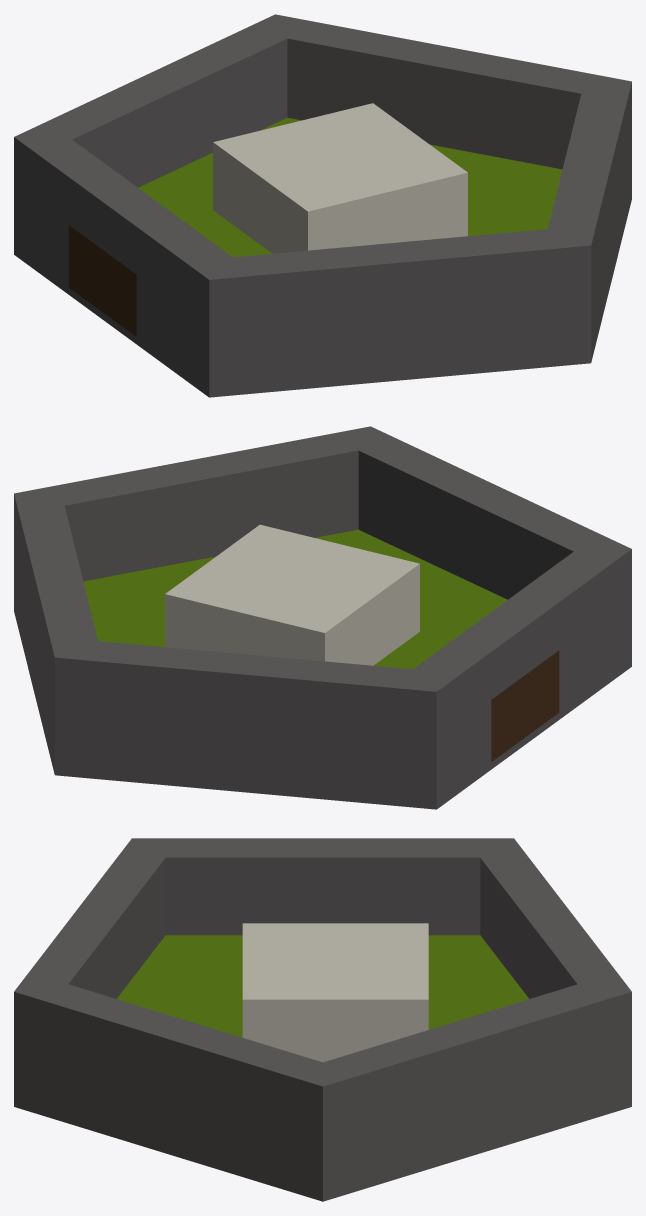
The model's file is StarFort.FBX.
The picture shows the model from 3 angles, top to bottom: view 1: azimuth 30°, elevation 25°; view 2: azimuth 150°, elevation 25°; view 3: azimuth 270°, elevation 25°; orthographic projection. The views are drawn at different scales.
Visible parts, largest first — view 1: StarFort; view 2: StarFort; view 3: StarFort.
Boxes of the visible parts, x1,y1,x2,y2 form: StarFort: (14, 14, 631, 397); StarFort: (14, 426, 631, 809); StarFort: (14, 838, 631, 1201).
Bounding box in the file's own units: 24.48 × 5.29 × 25.73.
